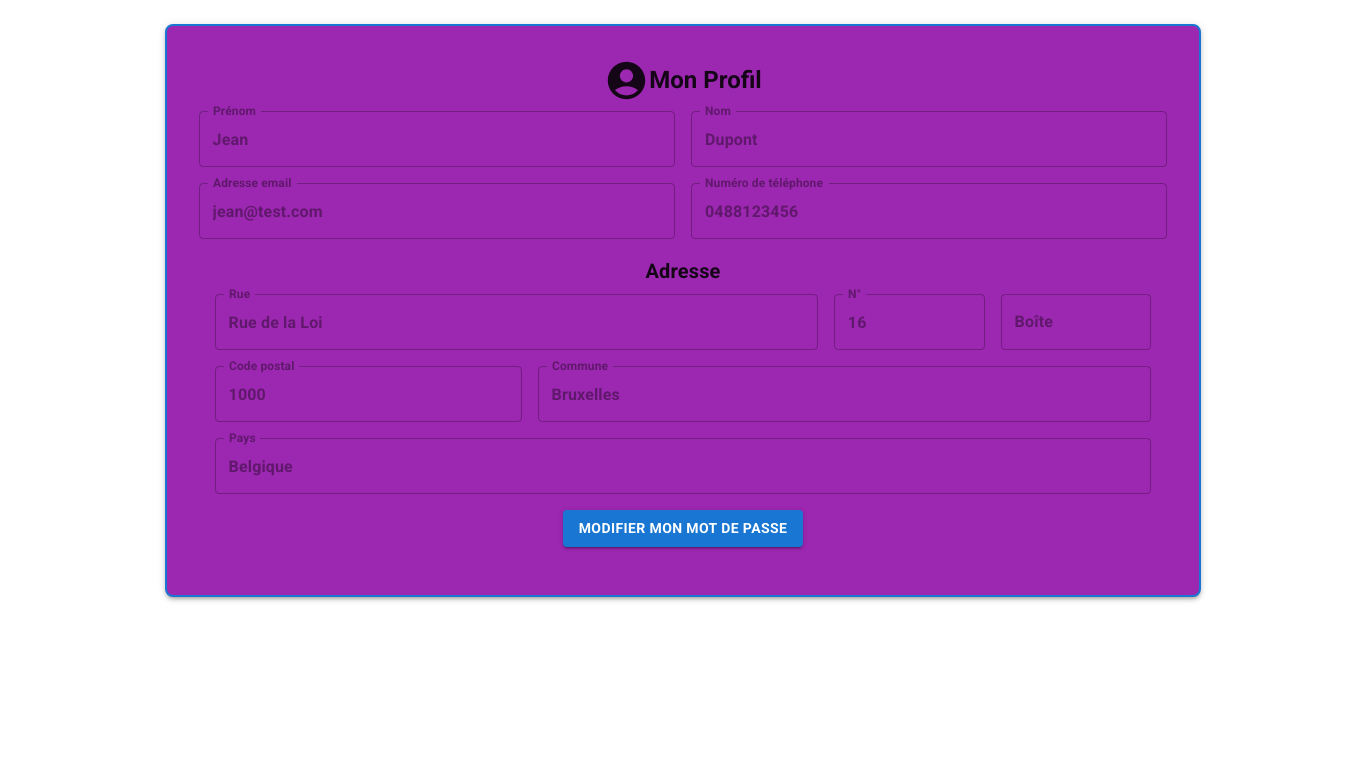
Test: ProfilePage › displays an error if the passwords do not match
Expected: the field showing "Jean" is shown, [199,111,675,167]
Click the button "Modifier mon mot de passe" at (683, 528), box [563,510,803,546]
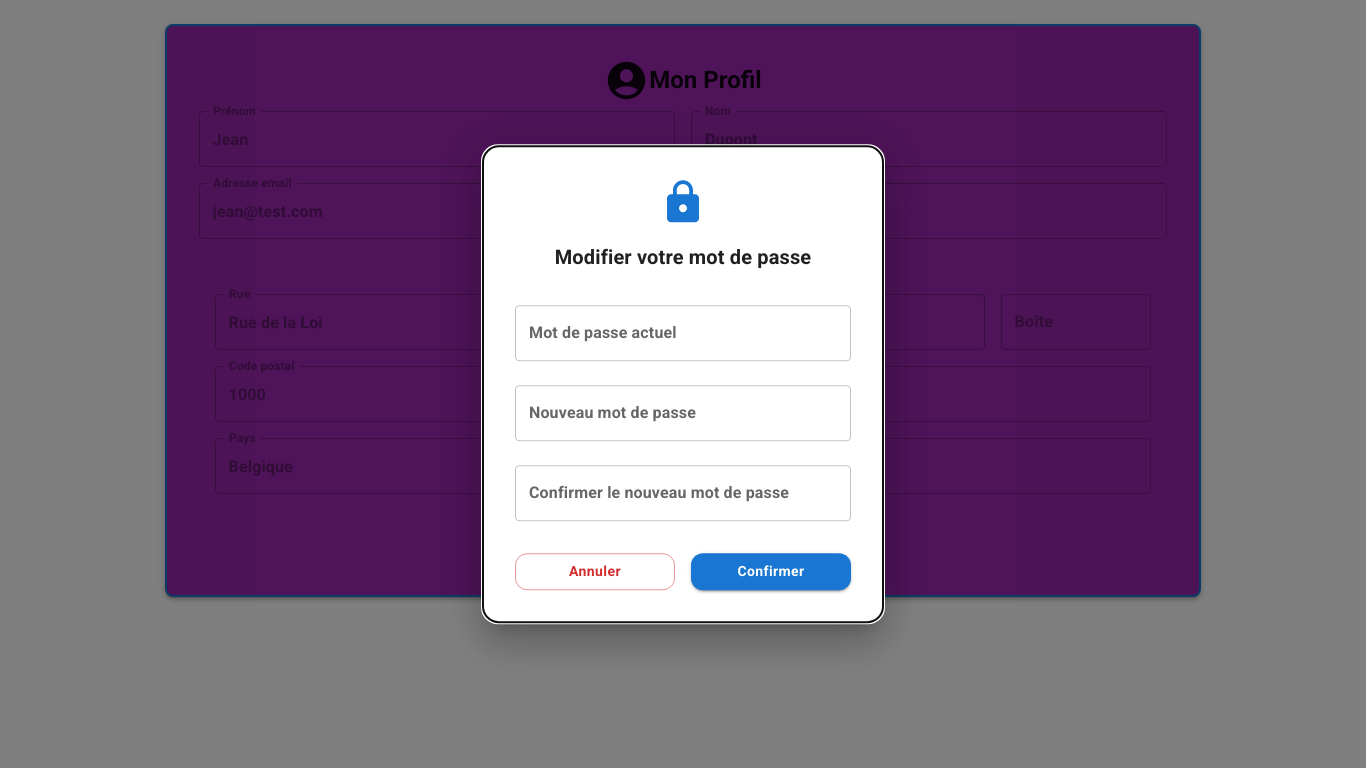
Type "oldPass123!" into the password field labelled "Mot de passe actuel" at (683, 333), box [515,305,851,361]
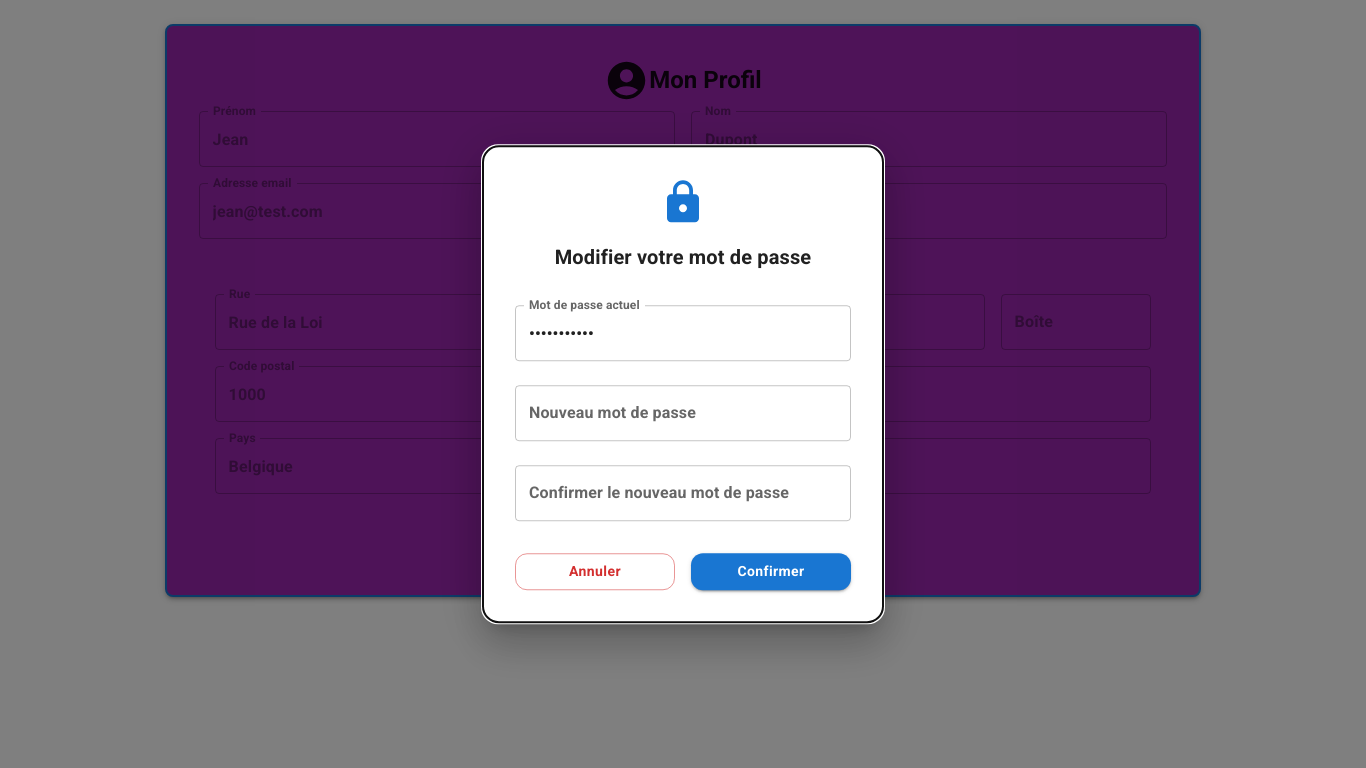
Type "NewPass123!" into the password field labelled "Nouveau mot de passe" at (683, 413), box [515,385,851,441]
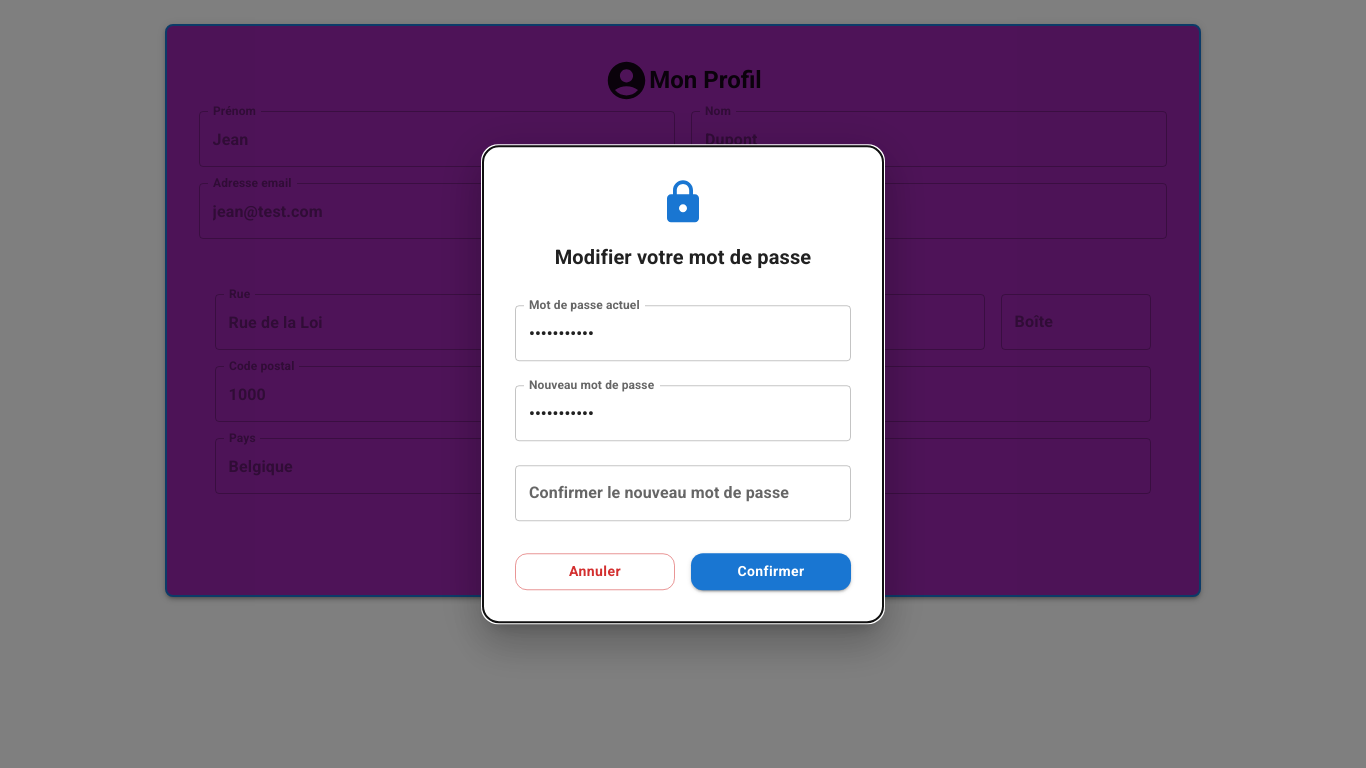
Type "DifferentPass!" into the password field labelled "Confirmer le nouveau mot de passe" at (683, 493), box [515,465,851,521]
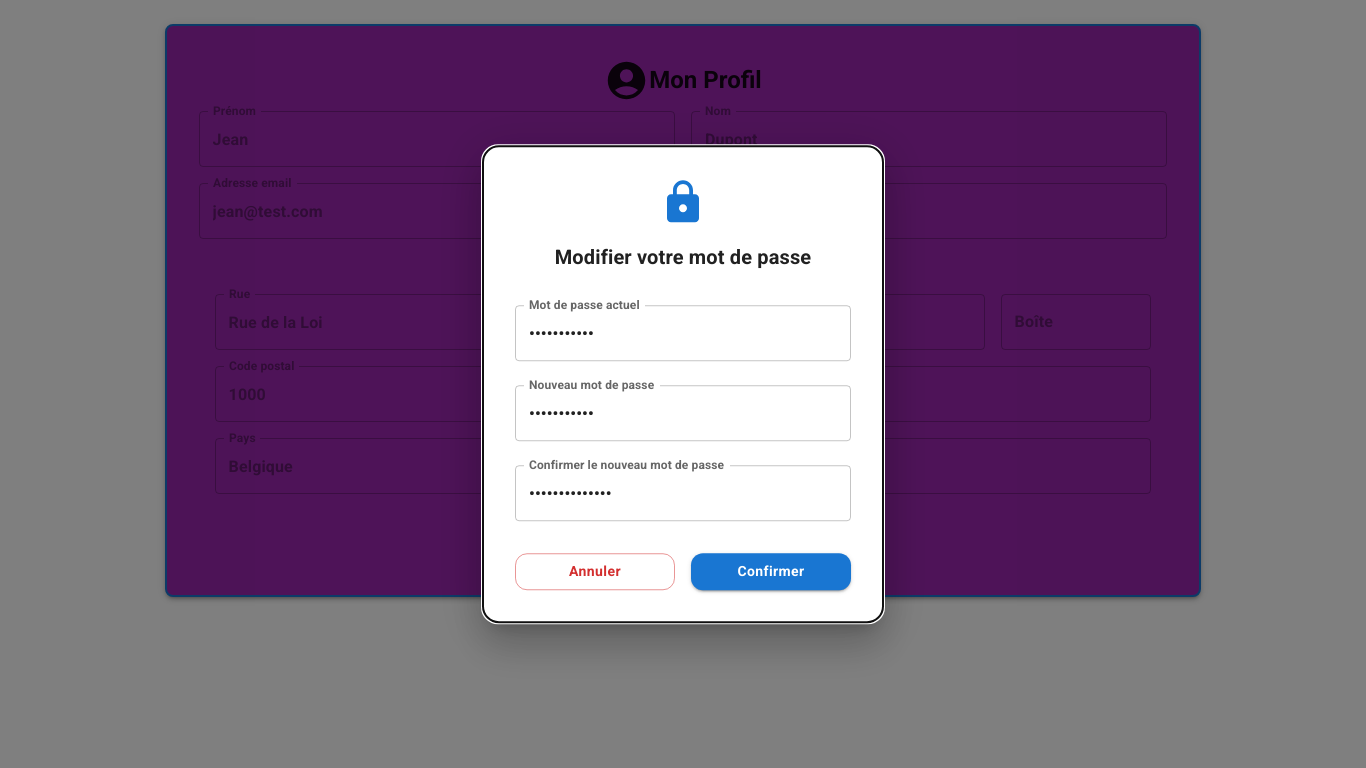
Click the button "Confirmer" at (771, 572), box [691,553,851,590]
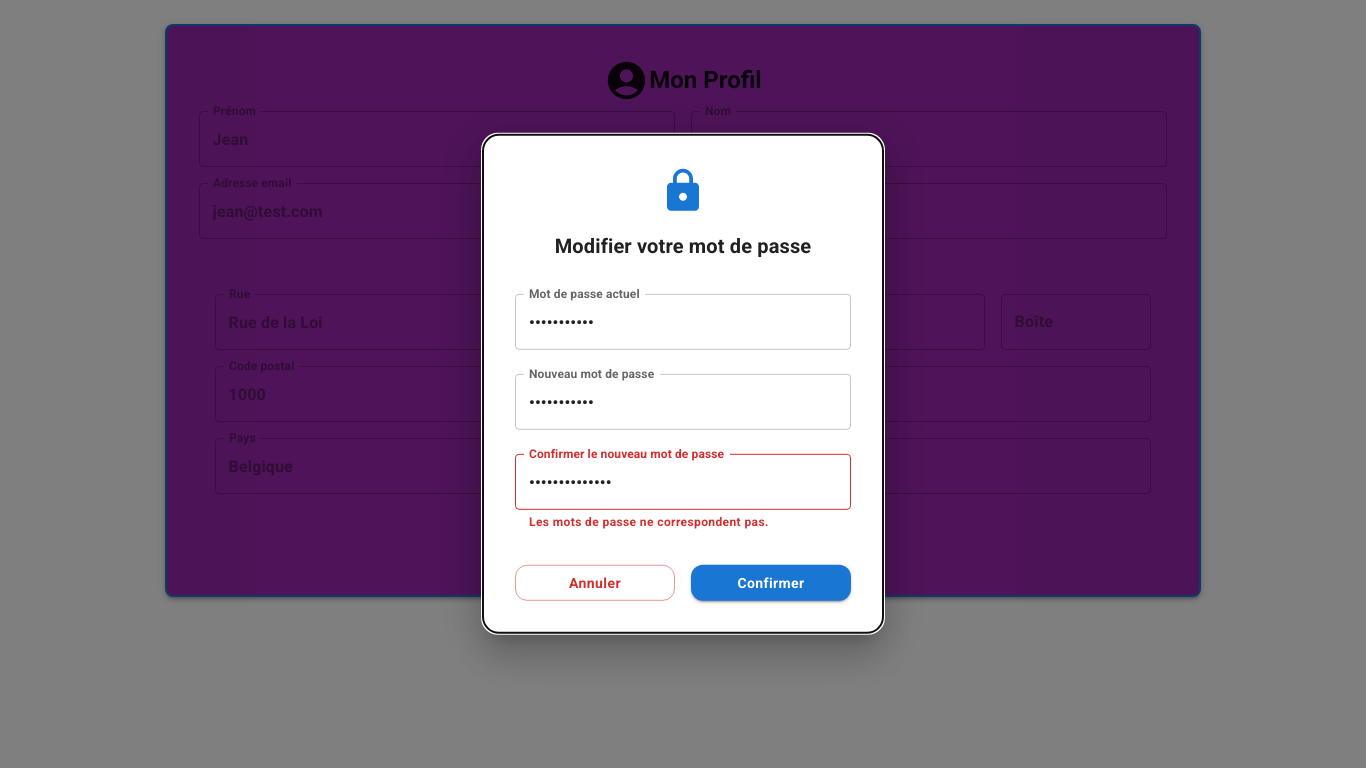
Result: the text "Les mots de passe ne correspondent pas." is shown at [529,515,769,529]
